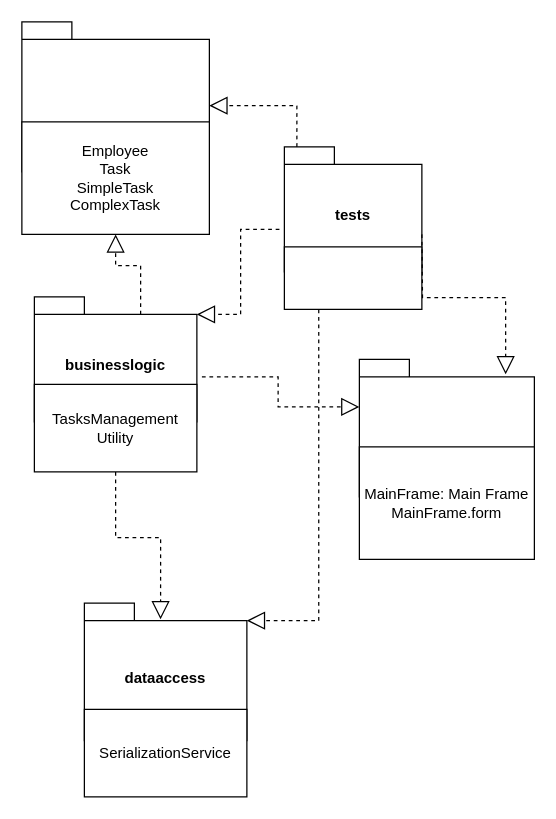
The diagram is 556 pixels wide and 819 high, and some of its shapes have lost their labels. Each missing label, with the box of its shape:
gui: (358, 358, 534, 497)
Main TestApp: (283, 246, 422, 309)
model:: (21, 21, 209, 172)
